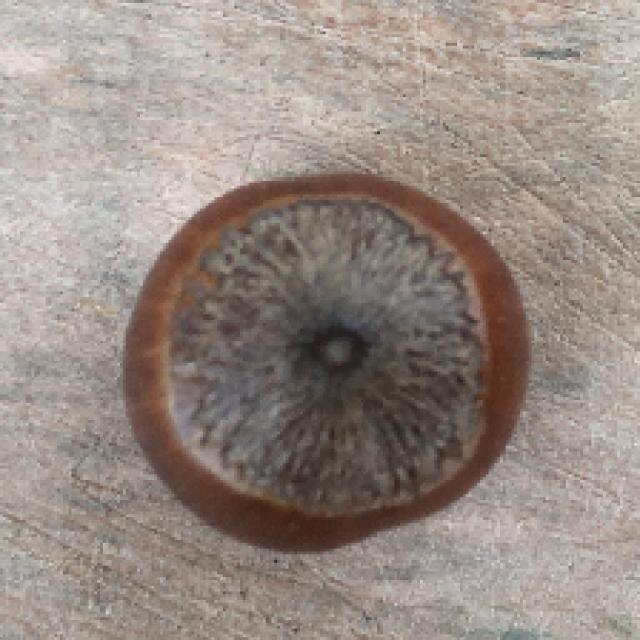DamagedHazelnut: (123, 172, 532, 558)
